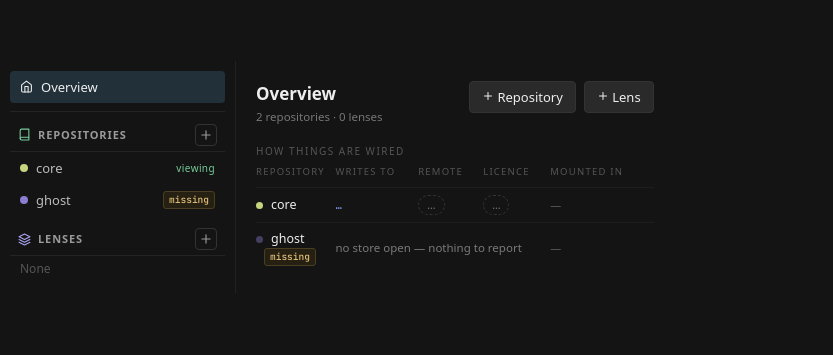
RepoManager › a repo with no live store › explains itself instead of loading a settings page that would 409
Click the button with test id "repomgr-item-ghost". click: (118, 200)
box: [10,184,225,216]
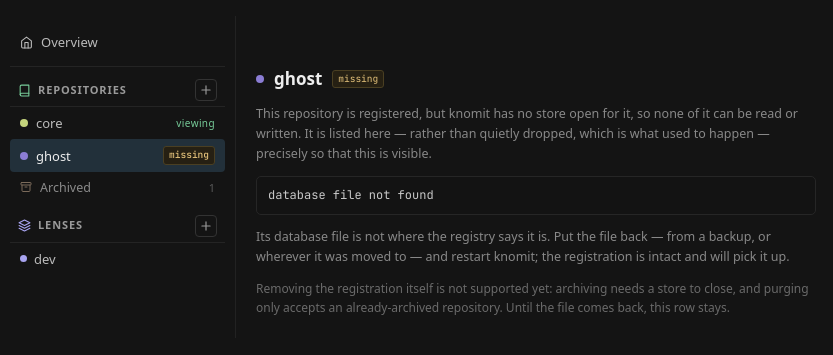
Expected: the text with test id "repo-unavailable-detail" reads "database file not found", [268,187,434,203]
Expected: the element with test id "repo-unavailable-ghost" shows "Put the file back", [256,228,790,265]
Expected: the text with test id "repo-unavailable-no-removal" shows "not supported yet", [256,280,809,316]
